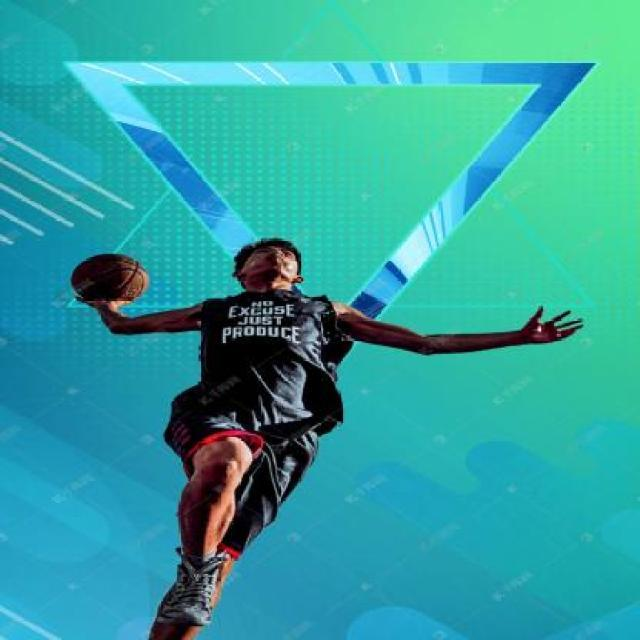basketball: (70, 253, 148, 299)
